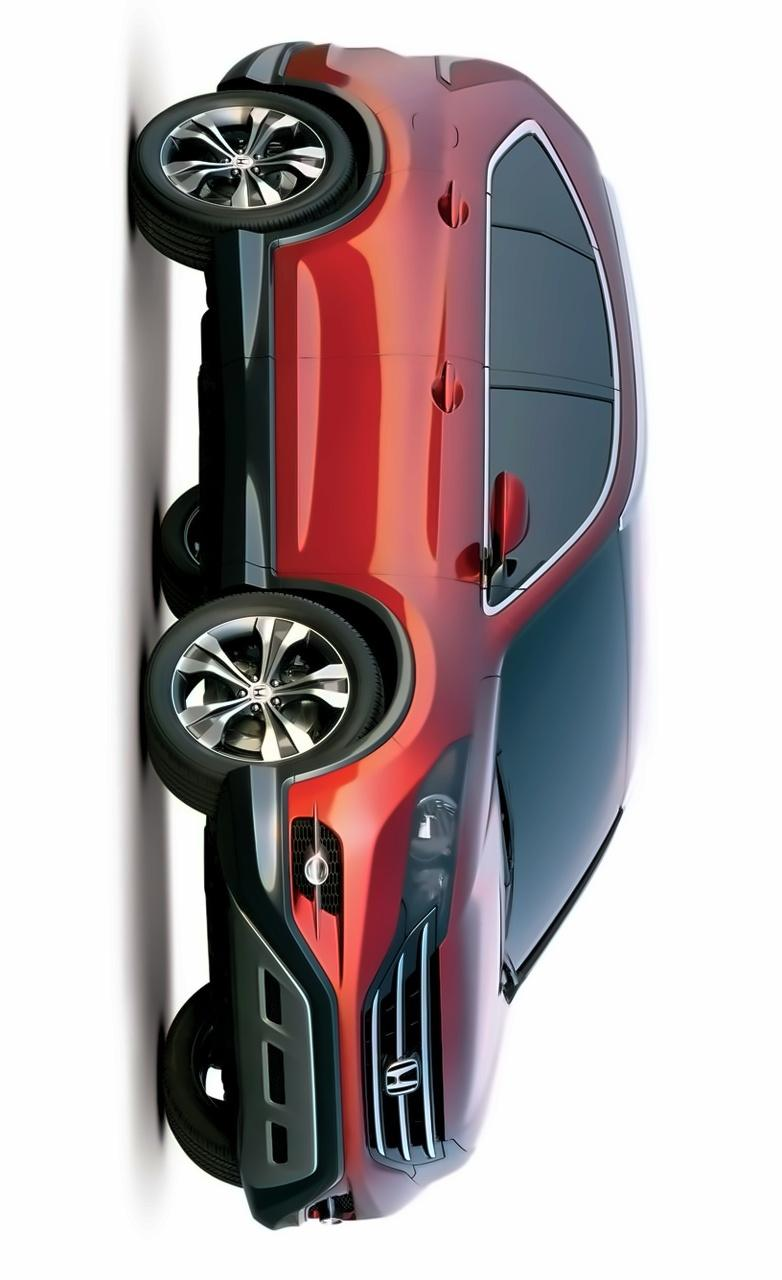Car hood: (432, 668, 523, 1164)
Driver-s door - -F-R-: (190, 362, 651, 616)
Fender - -F-R-: (196, 566, 518, 796)
Fender - -R-R-: (202, 74, 575, 268)
Front bumper: (176, 748, 409, 1230)
Headlight - -R-: (392, 734, 474, 947)
Passenger-s door - -R-R-: (202, 182, 651, 398)
Rear bumper: (212, 32, 317, 103)
Rear light - -R-: (432, 56, 525, 94)
Side bumper - -R-: (168, 218, 312, 607)
Side mirror - -R-: (464, 462, 534, 586)
